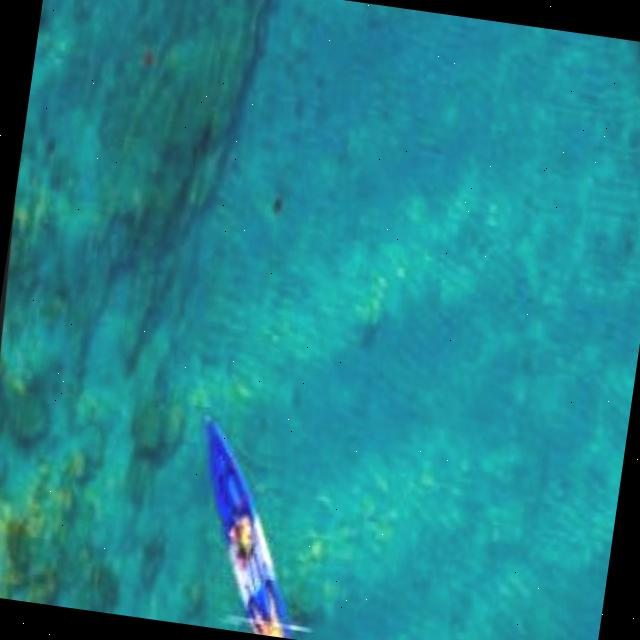kayak: (203, 421, 286, 638)
